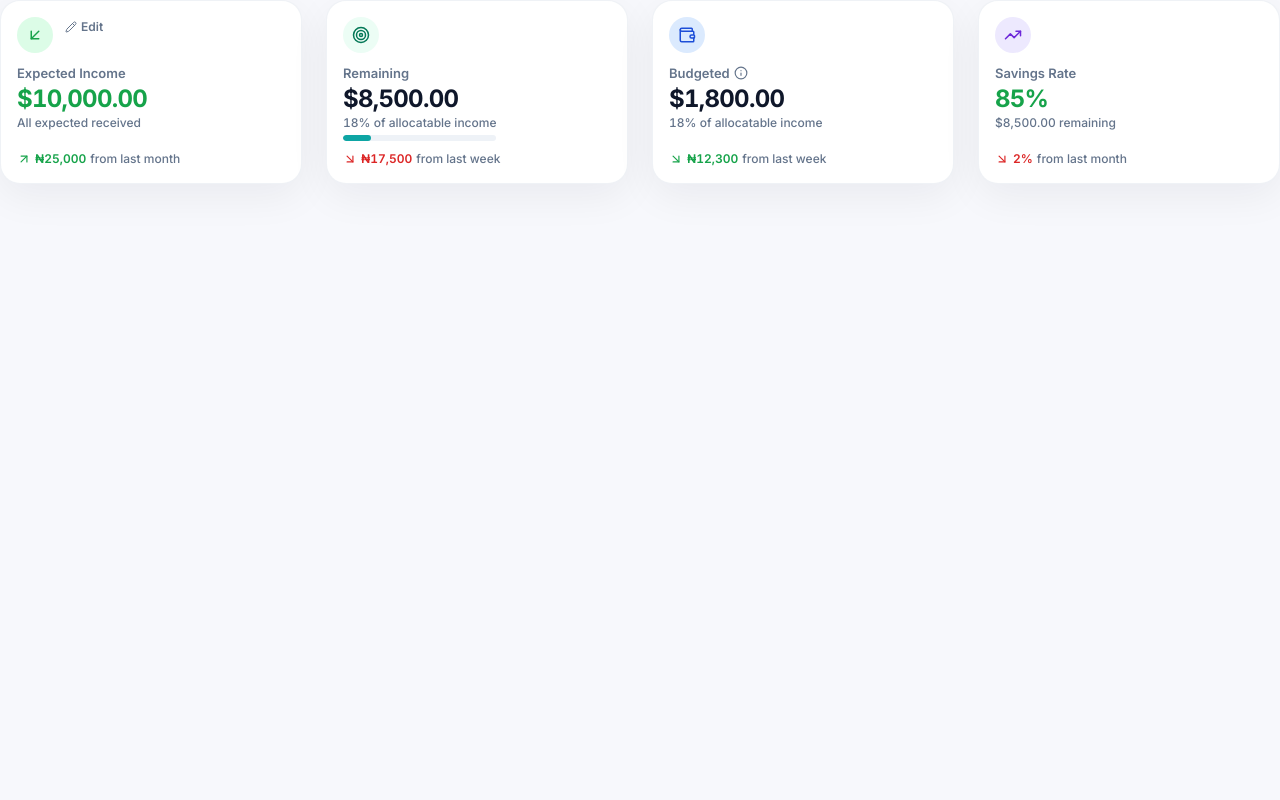
it: SummaryCards allocate-remaining entry point › opens the shared drawer for the category picked there
Click the button "Remaining".
click(361, 35)  # box top-left (326, 0), bottom-right (628, 184)
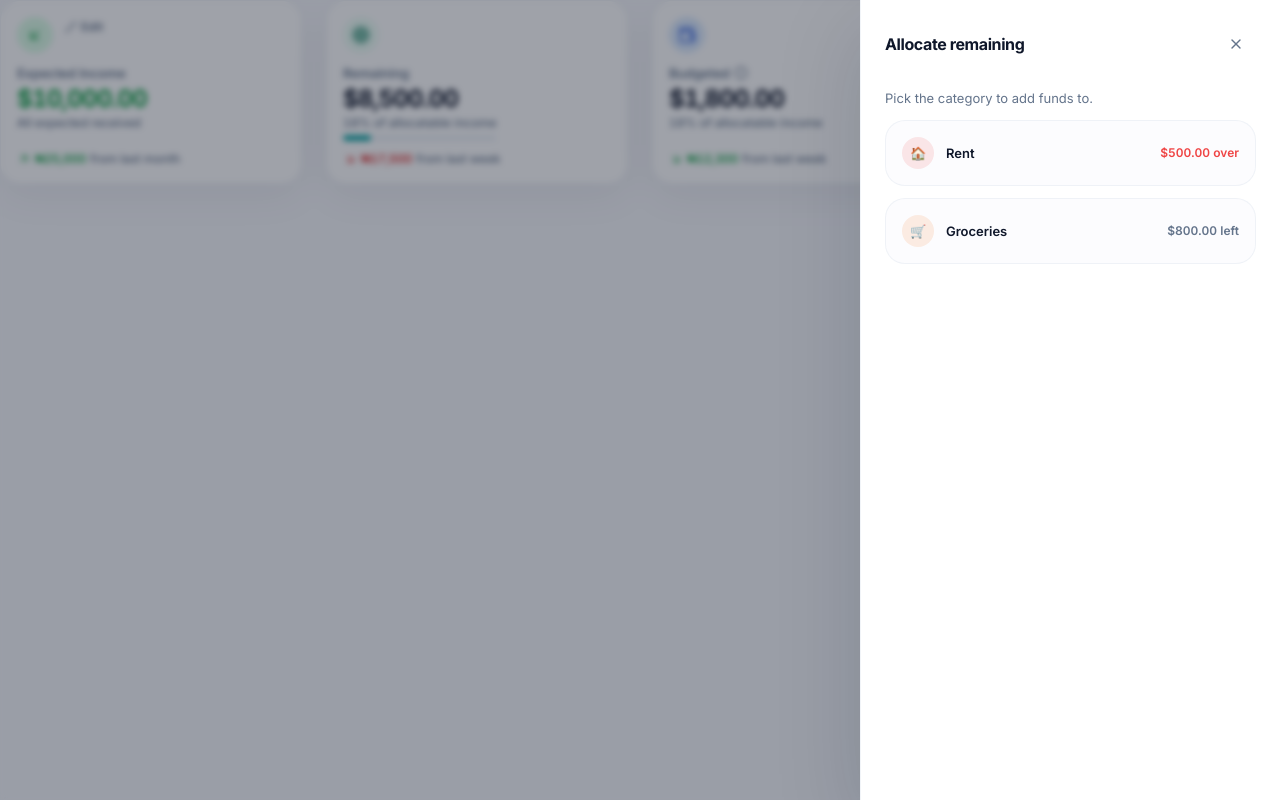
Click the button "🏠 Rent $500.00 over".
click(918, 153)  # box top-left (885, 120), bottom-right (1256, 186)
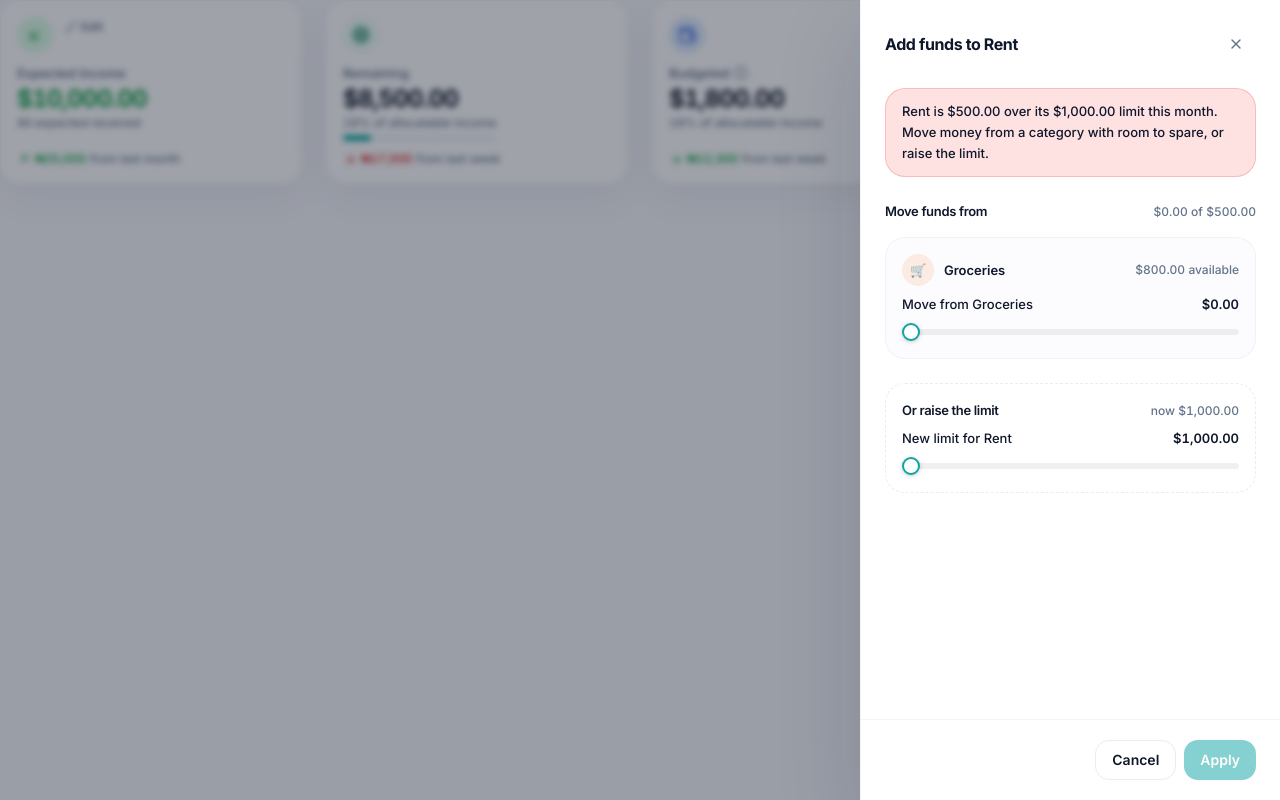
Result: the heading "Add funds to Rent" is shown at top-left (885, 32), bottom-right (1018, 56)
Result: the text "Rent is $500.00 over its $1,000.00 limit" is shown at top-left (885, 88), bottom-right (1256, 177)
Result: the slider labelled "Move from Groceries" is shown at top-left (902, 322), bottom-right (1239, 342)
